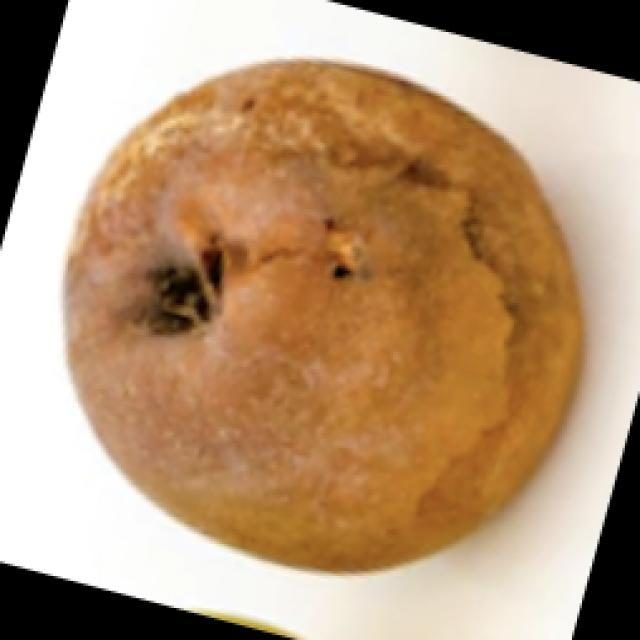Rotten: (98, 80, 555, 577)
